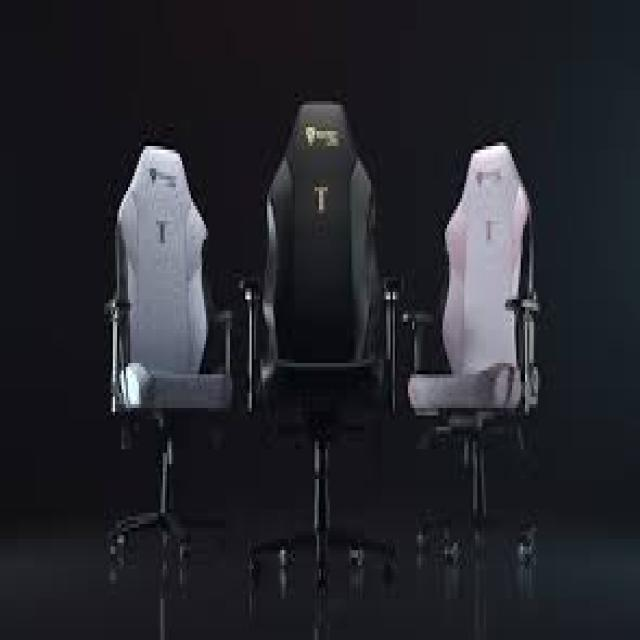chair: (55, 90, 242, 607), (237, 69, 406, 640), (404, 102, 586, 630)
